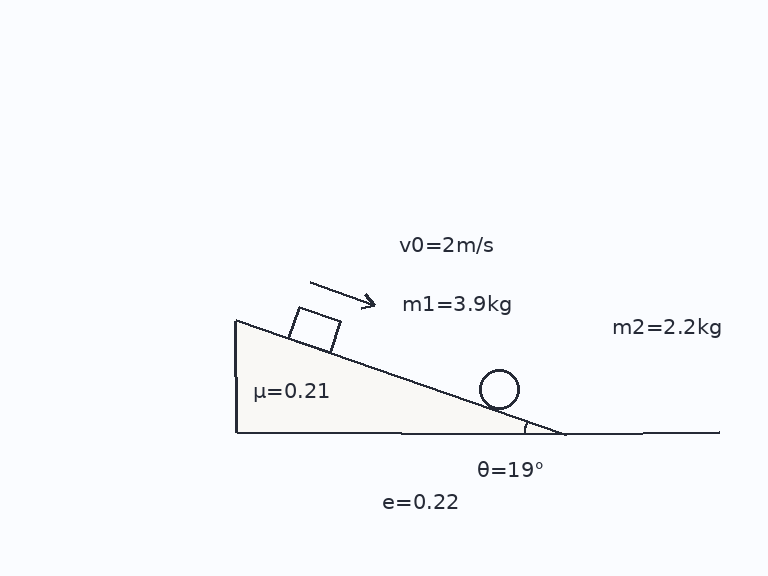ball: (477, 367, 521, 411)
block: (287, 305, 343, 354)
ramp: (234, 318, 567, 435)
